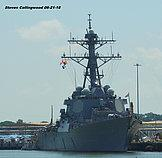MIL_Ship: (36, 13, 140, 152)
